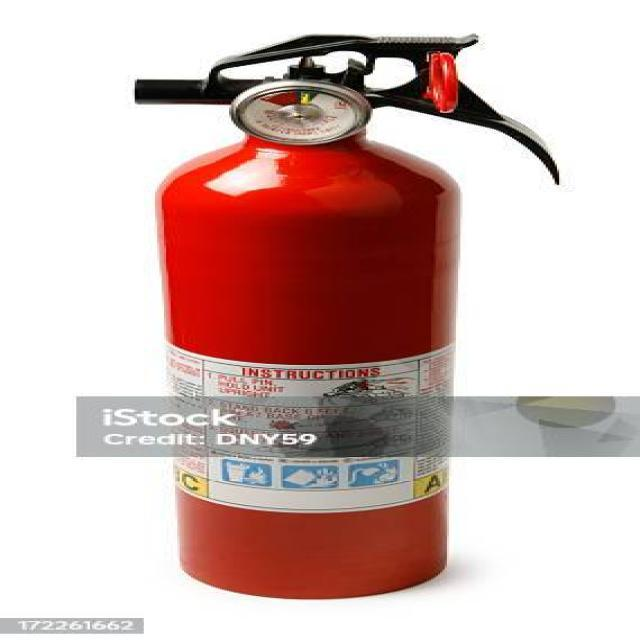pressure gauge: (231, 79, 371, 145)
